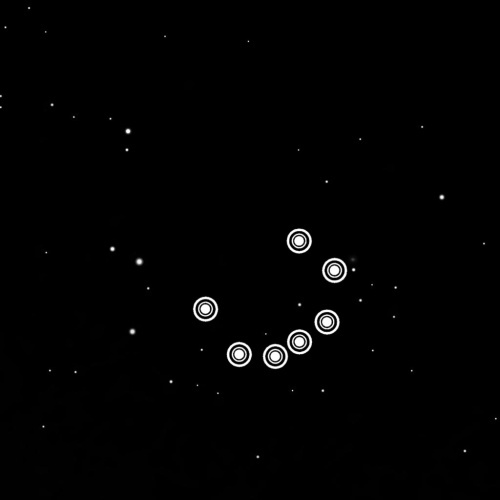corona_borealis: (187, 220, 352, 373)
